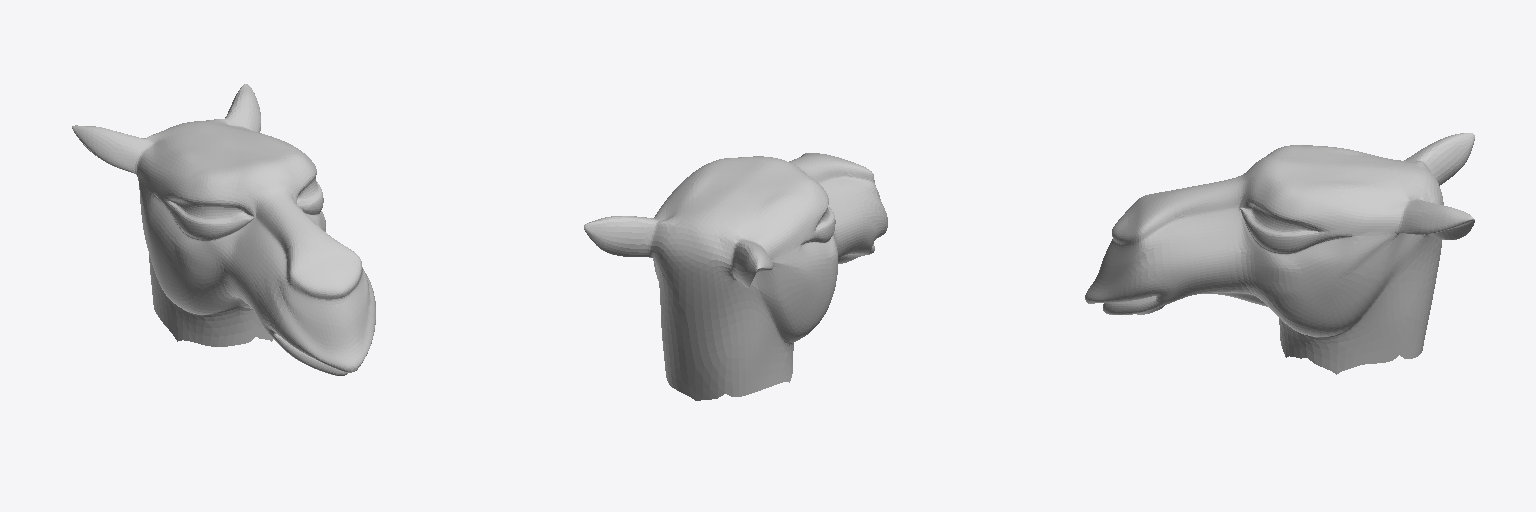
File: camelhead2.obj
3 renders of one model, left to right at view 1: azimuth 30°, elevation 25°; view 2: azimuth 150°, elevation 25°; view 3: azimuth 270°, elevation 25°, orthographic.
Parts seen in each view (by area): view 1: camelhead; view 2: camelhead; view 3: camelhead.
Part boxes in pixels (x1,y1,x2,y2): camelhead: (72,84,375,375); camelhead: (584,153,887,400); camelhead: (1085,133,1474,374).
Bounding box in the file's own units: 5.72 × 5.8 × 10.92.